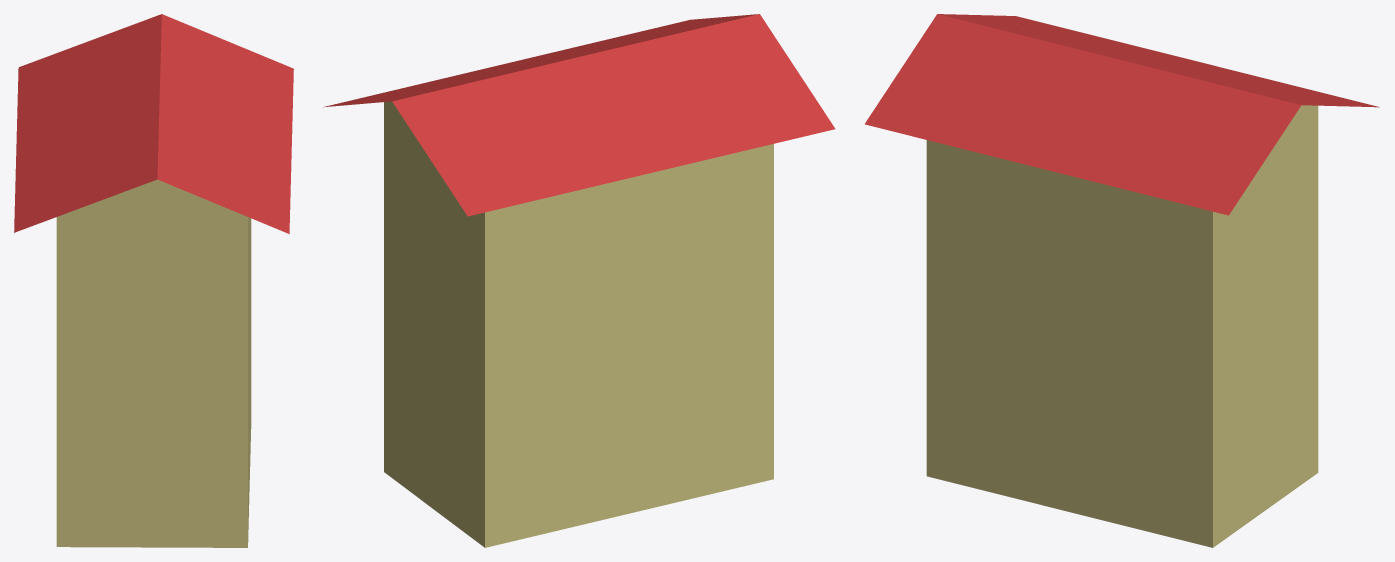
3 views of the same model, side by side, from view 1: azimuth 30°, elevation 25°; view 2: azimuth 150°, elevation 25°; view 3: azimuth 270°, elevation 25° (orthographic). The views are drawn at different scales.
Parts seen in each view (by area): view 1: group_5, group_3, group_4; view 2: group_5, group_3, group_4; view 3: group_5, group_3, group_4.
Boxes of the visible parts, <box> form: group_5: <box>56,179,251,547</box>; group_3: <box>15,14,290,222</box>; group_4: <box>14,14,293,233</box>; group_5: <box>384,101,773,547</box>; group_3: <box>385,14,773,173</box>; group_4: <box>323,14,835,216</box>; group_5: <box>926,24,1318,547</box>; group_3: <box>927,14,1317,214</box>; group_4: <box>865,14,1379,215</box>.
Size of the model in its own units: 7.8 by 8.53 by 7.61.
